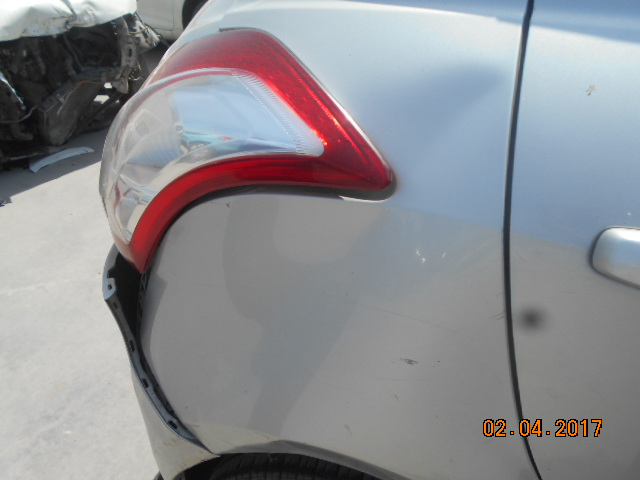Dislocation: (99, 239, 180, 427)
